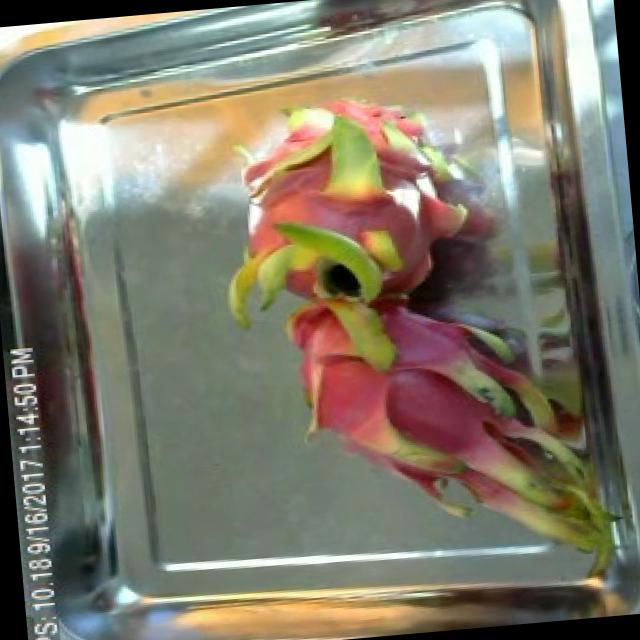Fruit: (350, 117, 444, 206)
